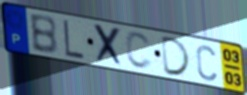B: (28, 13, 60, 57)
C: (124, 30, 154, 72), (195, 43, 218, 83)
D: (160, 35, 193, 78)
L: (62, 17, 86, 61)
X: (92, 22, 126, 70)
